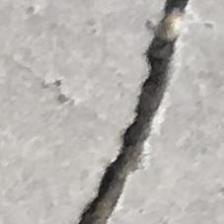Crack: (75, 0, 224, 224)
